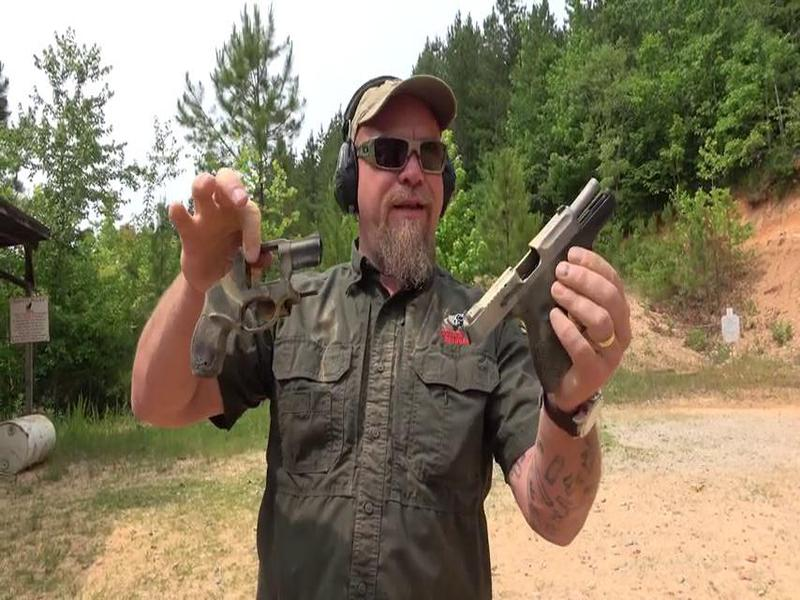Pistola: (470, 162, 637, 410)
Revolver: (144, 222, 347, 401)
